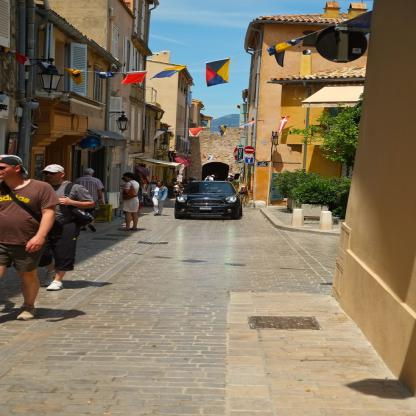Car: (173, 177, 245, 216)
